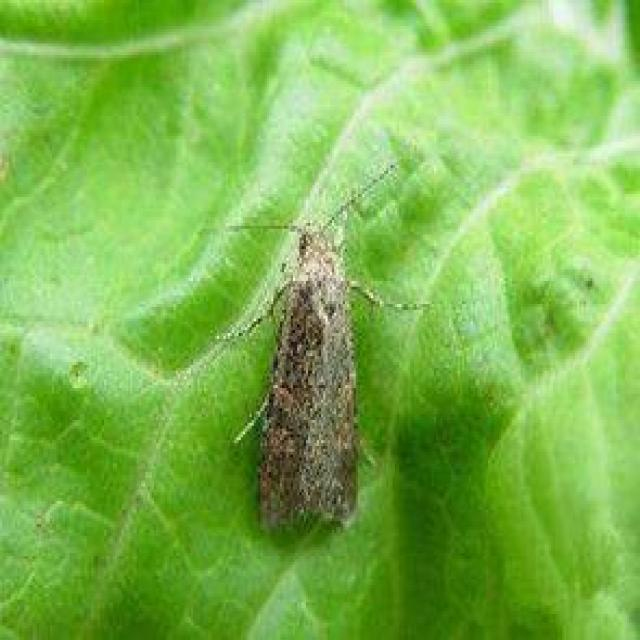BeetArmyWorm-Adult-: (201, 181, 425, 544)
